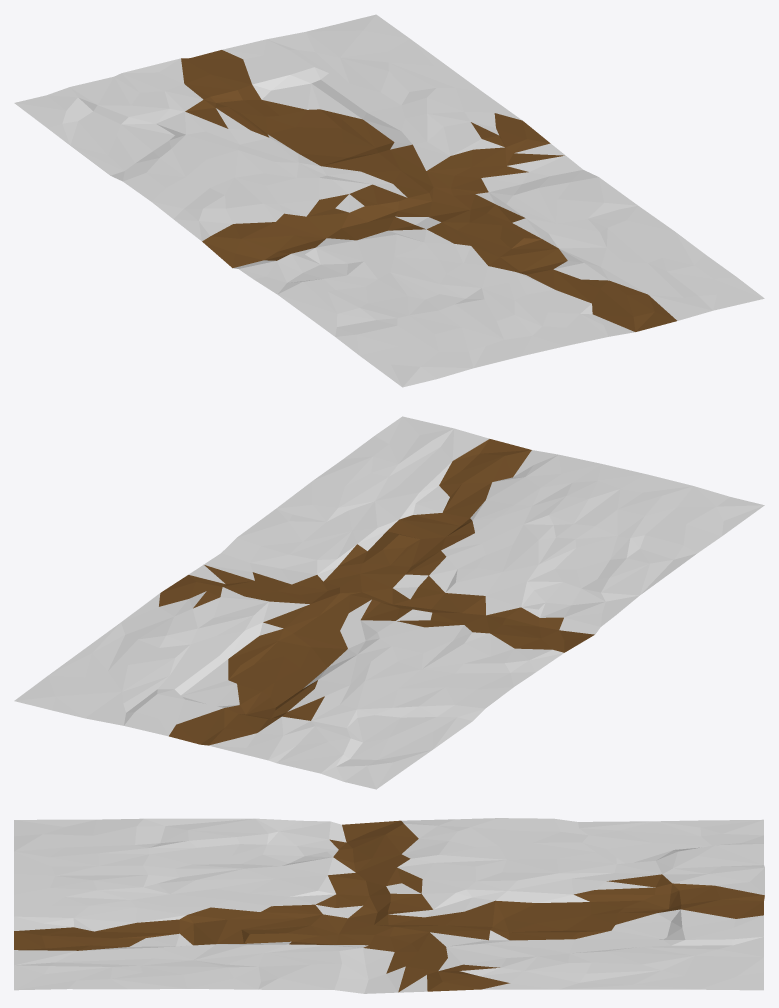
File: level1ground.fbx
3 views of the same model, one above another, from view 1: azimuth 30°, elevation 25°; view 2: azimuth 150°, elevation 25°; view 3: azimuth 270°, elevation 25° (orthographic). The views are drawn at different scales.
Parts seen in each view (by area): view 1: Plane; view 2: Plane; view 3: Plane.
Part boxes in pixels (x1,y1,x2,y2): Plane: (14,14,764,387); Plane: (14,416,764,789); Plane: (14,818,764,993).
Size of the model in its own units: 14008 by 398 by 26031.
